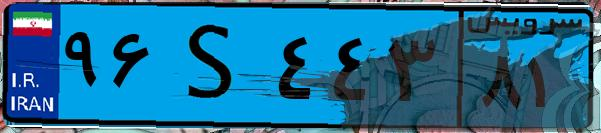1: (525, 38, 570, 115)
3: (385, 28, 445, 110)
4: (270, 28, 330, 110), (330, 28, 385, 110)
6: (110, 28, 158, 98)
8: (475, 38, 525, 113)
9: (57, 26, 110, 100)
S: (158, 12, 270, 120)
